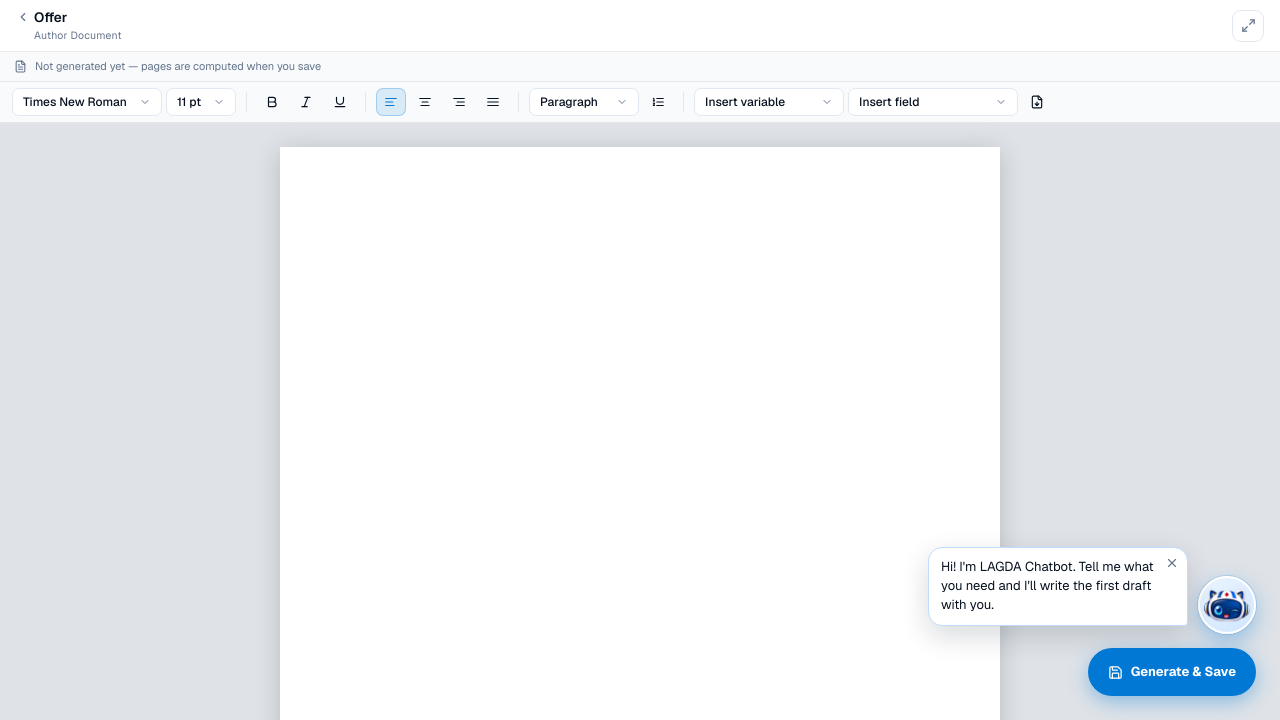
Test: the author page and LAGDA Chatbot › keeps the conversation while the panel is closed and reopened
Click the button named "Open LAGDA Chatbot" at (1227, 605), box [1198,576,1256,634]
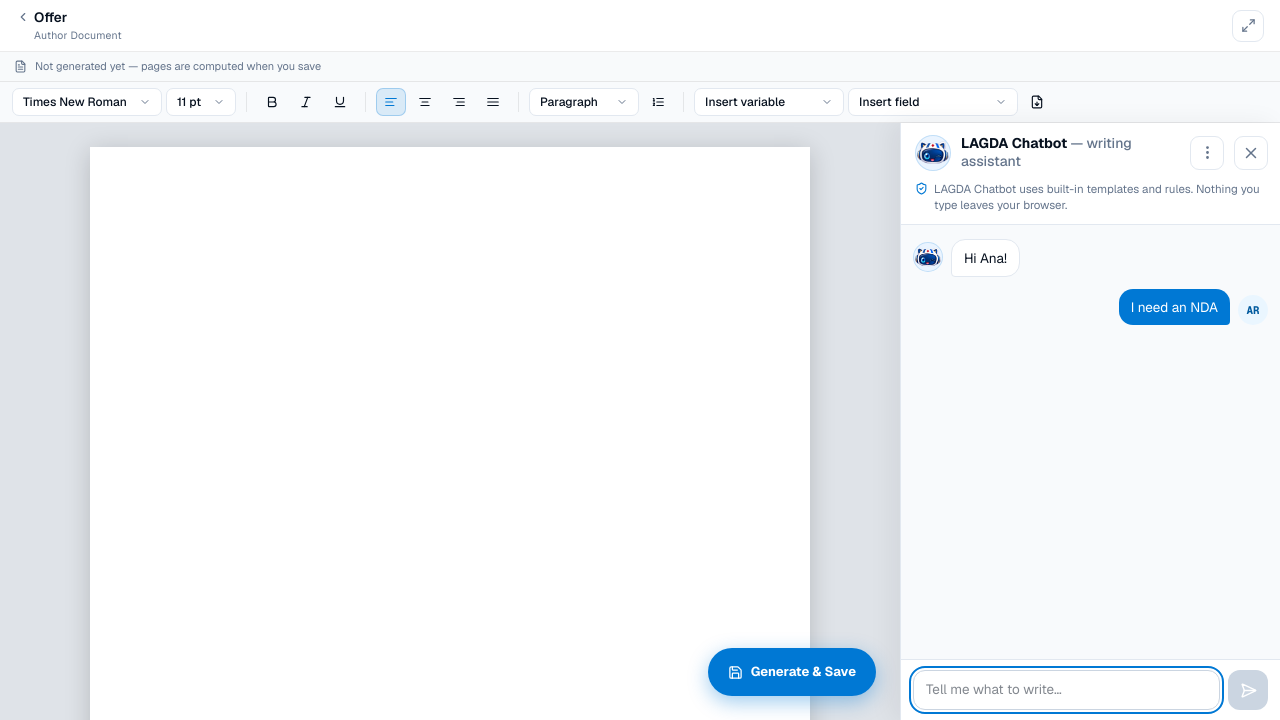
Click the button named "Close LAGDA Chatbot" at (1251, 152), box [1234,136,1268,170]
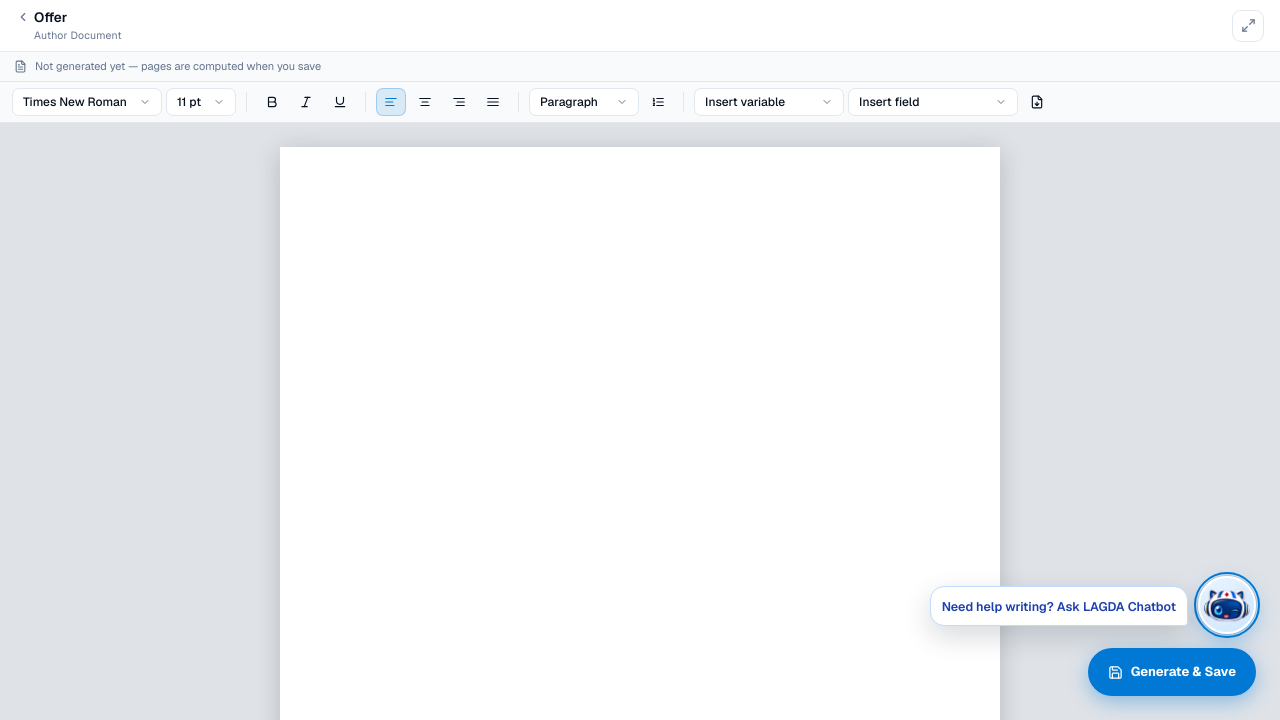
Click the button named "Open LAGDA Chatbot" at (1227, 605), box [1198,576,1256,634]
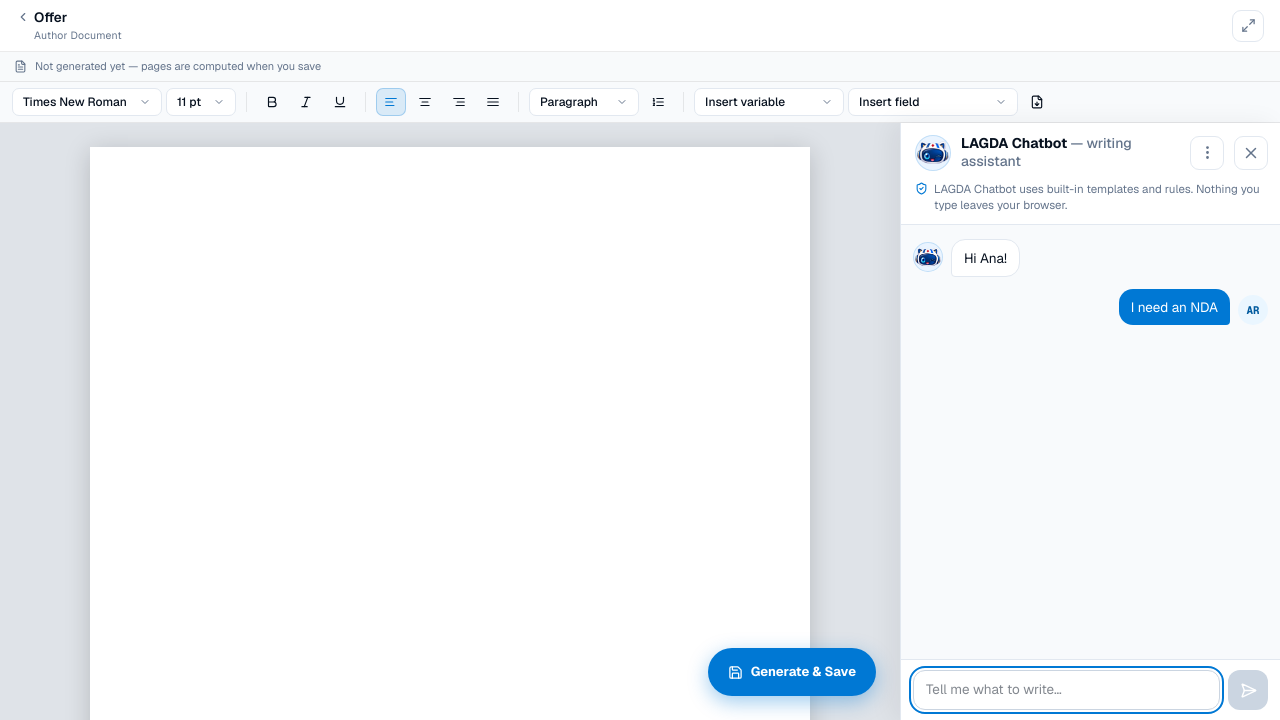
Check: the text "I need an NDA" is shown, box [1119,289,1230,325]
